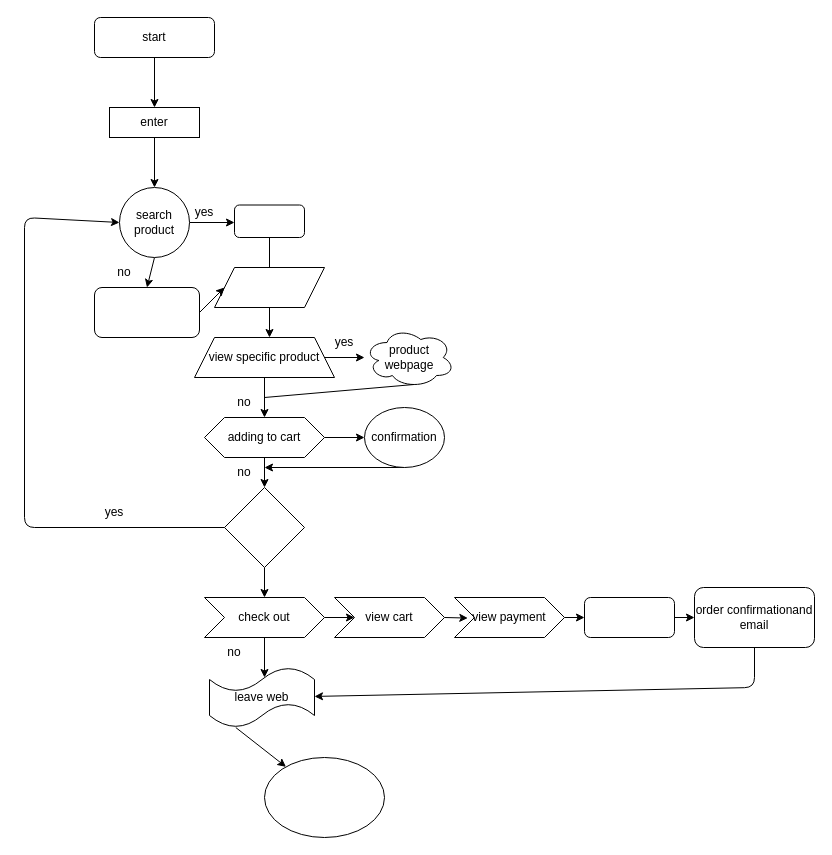
Image size: 832x855. Some labels were removed from this diagram. Here are the shapes that lost their labels. From the top down, the centre of each, then its label:
At pixel 269 221: "input".
At pixel 269 287: "looking over product".
At pixel 147 312: "explore on home page".
At pixel 264 527: "continue shopping".
At pixel 629 617: "input payment information".
At pixel 324 797: "end".
